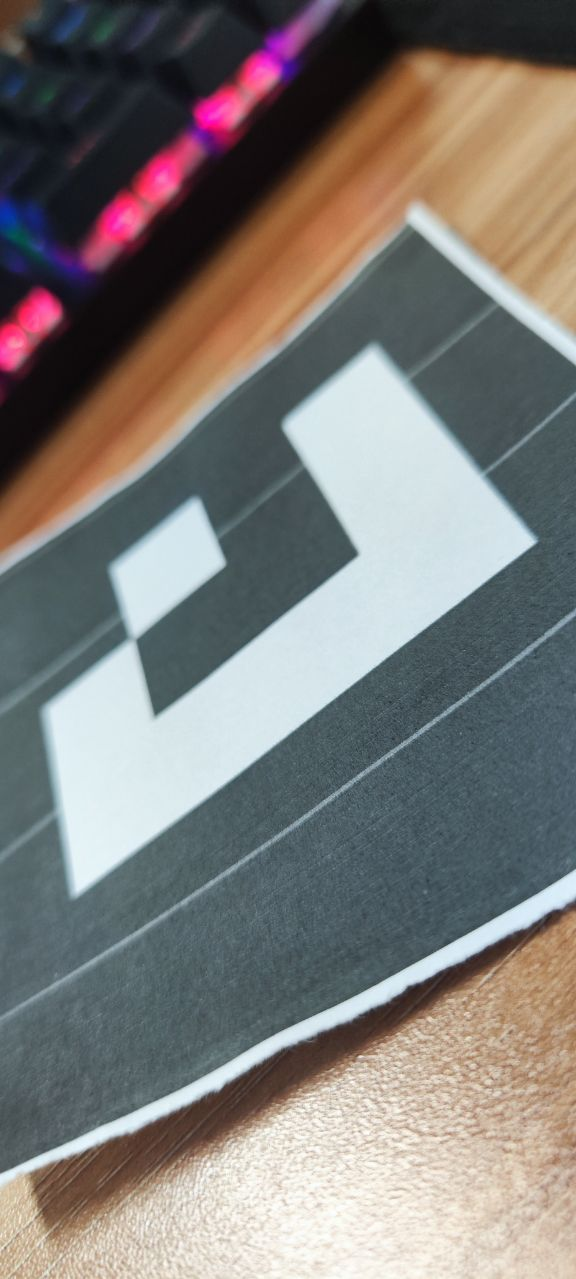mark1: (28, 343, 542, 906)
